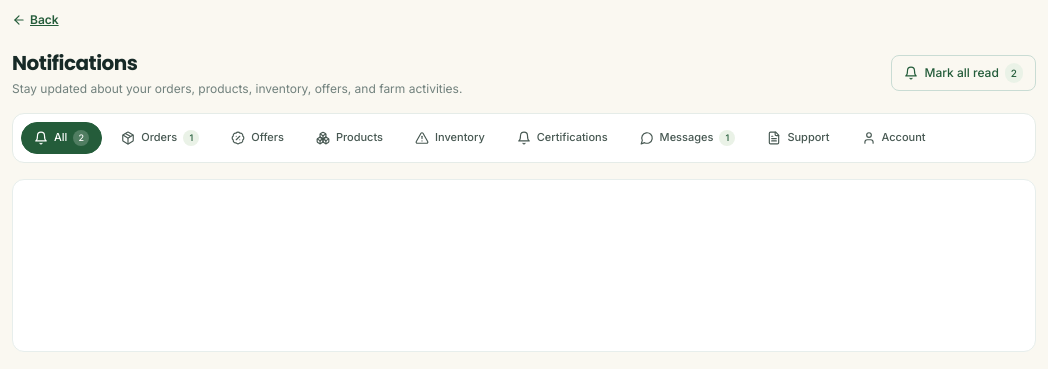
it: Farmer Notification Centre › normalizes legacy records saved without a category by type
Click the button "Orders 1" at (160, 138), box [108,122,212,154]
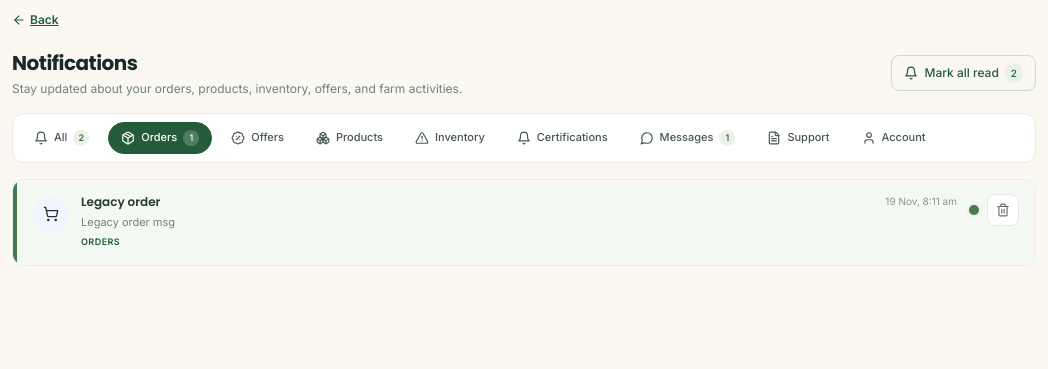
Result: the button "Legacy order" is shown at [81,194,160,210]
Click the button "Messages 1" at (688, 138), box [627,122,748,154]
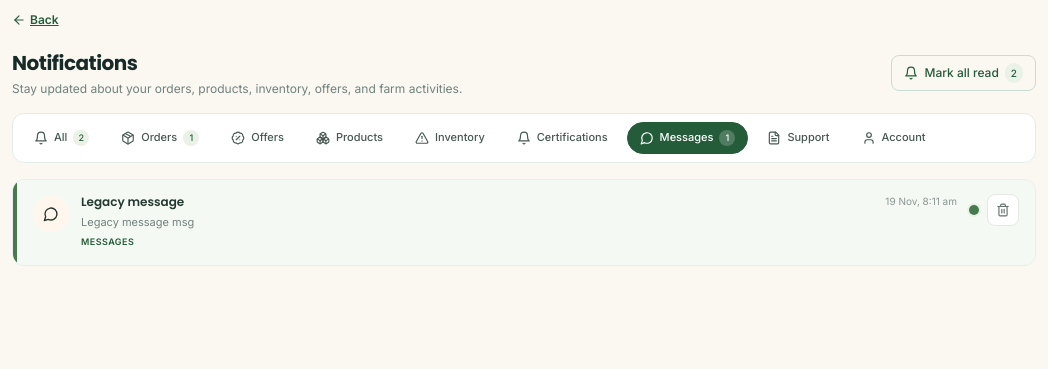
Result: the button "Legacy message" is shown at [81,194,184,210]
